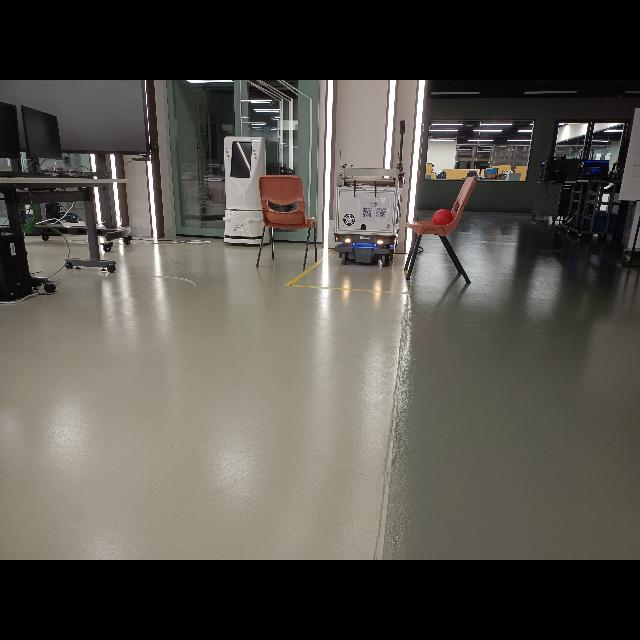R: (433, 209, 453, 227)
